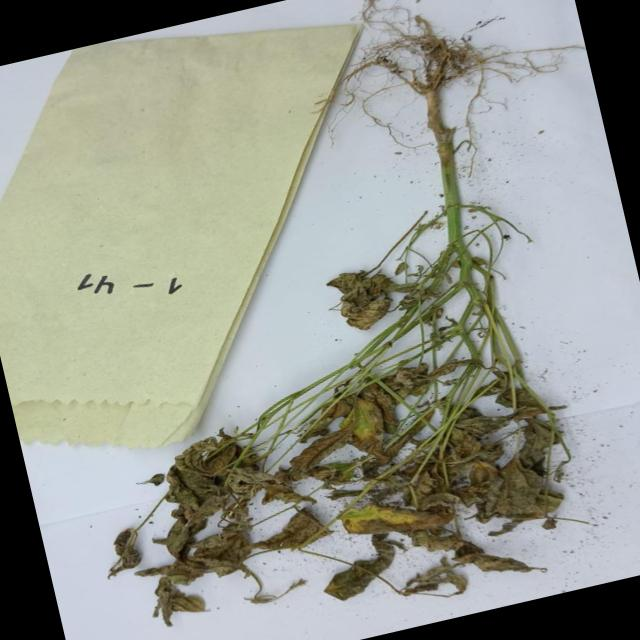Root: (281, 0, 608, 214)
Stem: (450, 241, 520, 356), (418, 146, 478, 252)
rooten_leaf: (320, 458, 614, 622), (126, 512, 288, 632), (136, 426, 274, 543), (480, 364, 590, 478), (408, 397, 516, 508), (303, 250, 435, 337), (248, 422, 374, 503), (322, 368, 434, 433), (249, 509, 324, 566)
